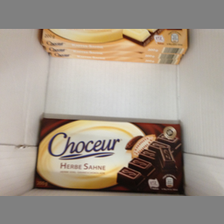chocolate: (34, 117, 187, 196), (42, 29, 188, 64)
